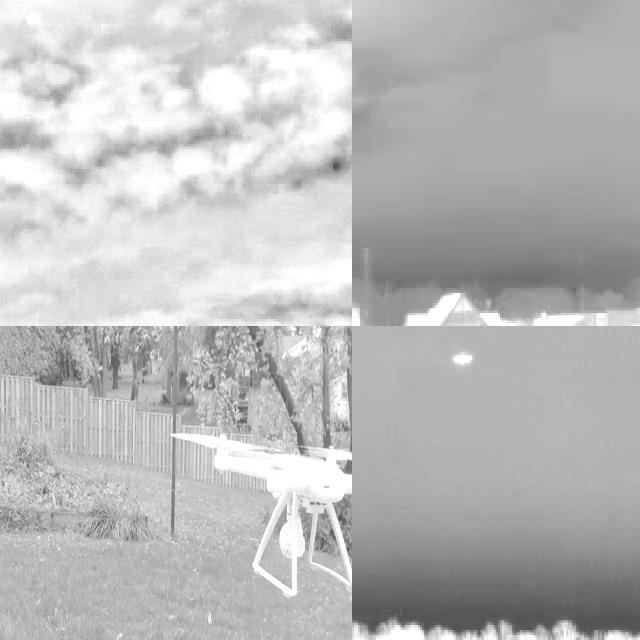0: (17, 6, 47, 36)
1: (440, 346, 474, 374)
drone: (184, 447, 352, 593)
